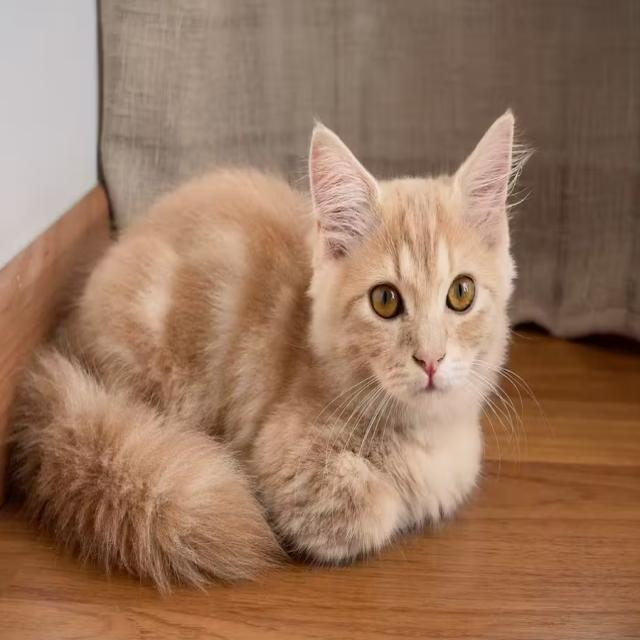Munchkin: (10, 107, 517, 583)
